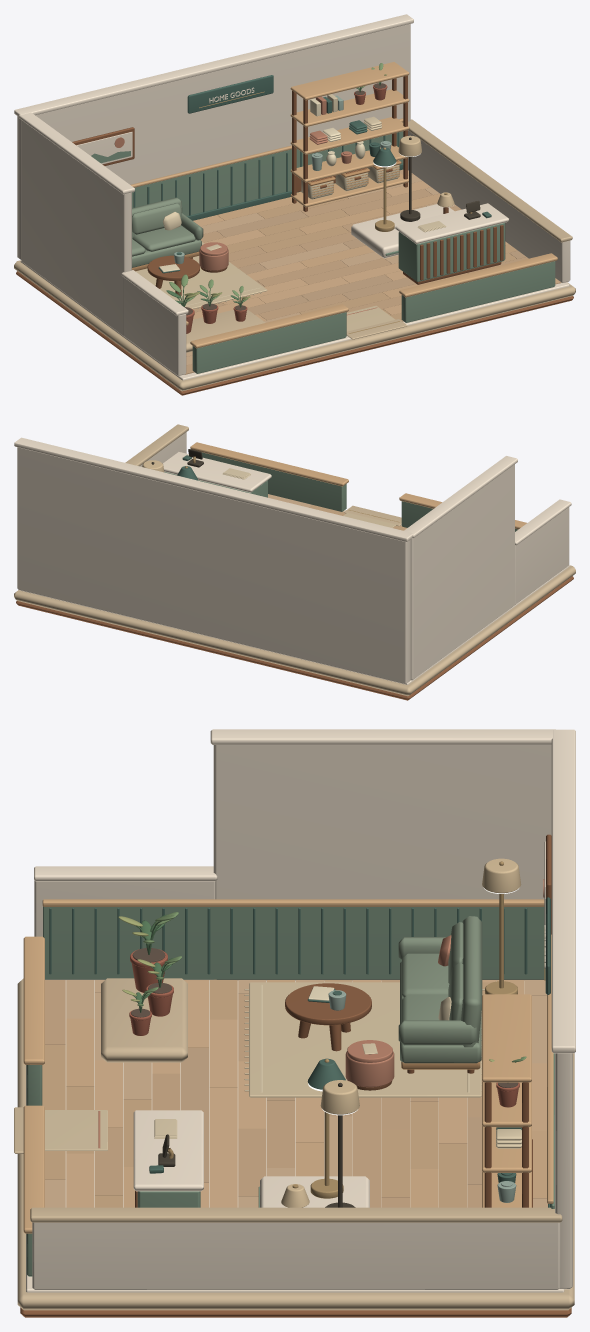
The model's file is shop.glb.
The picture shows the model from 3 angles, top to bottom: view 1: azimuth 30°, elevation 25°; view 2: azimuth 150°, elevation 25°; view 3: azimuth 270°, elevation 25°; orthographic projection. The views are drawn at different scales.
Visible parts, largest first — view 1: Furniture store shell · Shop · warm plaster, Furniture store shell · Shop · cream limestone, Furniture store shell · Shop · ivory joinery, Furniture store shell · Shop · eucalyptus panel, Editable furniture displays · Shop · light oak, Store fixtures and signs · Shop · eucalyptus panel, Furniture store shell · Shop · floorboard 0, Editable furniture displays · Shop · warm walnut, Furniture store shell · Shop · floorboard 4, Editable furniture displays · Shop · ivory joinery, Store fixtures and signs · Shop · forest blue green, Furniture store shell · Shop · floorboard 2 (+20 smaller); view 2: Furniture store shell · Shop · warm plaster, Furniture store shell · Shop · cream limestone, Furniture store shell · Shop · ivory joinery, Furniture store shell · Shop · eucalyptus panel, Furniture store shell · Shop · warm walnut, Furniture store shell · Shop · light oak, Editable furniture displays · Shop · ivory joinery; view 3: Furniture store shell · Shop · warm plaster, Store fixtures and signs · Shop · eucalyptus panel, Furniture store shell · Shop · cream limestone, Furniture store shell · Shop · ivory joinery, Furniture store shell · Shop · floorboard 4, Furniture store shell · Shop · floorboard 0, Editable furniture displays · Shop · flatweave sandy rug, Furniture store shell · Shop · floorboard 2, Editable furniture displays · Shop · olive upholstery, Editable furniture displays · Shop · light oak, Editable furniture displays · Shop · ivory joinery, Furniture store shell · Shop · floorboard 5 (+18 smaller).
Part boxes in pixels (x1,y1,x2,y2): Furniture store shell · Shop · warm plaster: [17, 24, 570, 375]; Furniture store shell · Shop · cream limestone: [14, 119, 575, 391]; Furniture store shell · Shop · ivory joinery: [14, 14, 569, 380]; Furniture store shell · Shop · eucalyptus panel: [192, 261, 555, 373]; Editable furniture displays · Shop · light oak: [290, 62, 409, 207]; Store fixtures and signs · Shop · eucalyptus panel: [91, 131, 403, 215]; Furniture store shell · Shop · floorboard 0: [185, 169, 528, 374]; Editable furniture displays · Shop · warm walnut: [147, 75, 503, 295]; Furniture store shell · Shop · floorboard 4: [193, 181, 561, 320]; Editable furniture displays · Shop · ivory joinery: [351, 203, 509, 258]; Store fixtures and signs · Shop · forest blue green: [133, 75, 403, 220]; Furniture store shell · Shop · floorboard 2: [226, 197, 517, 321]; Furniture store shell · Shop · warm plaster: [17, 432, 569, 684]; Furniture store shell · Shop · cream limestone: [14, 424, 575, 696]; Furniture store shell · Shop · ivory joinery: [14, 437, 571, 684]; Furniture store shell · Shop · eucalyptus panel: [201, 452, 517, 531]; Furniture store shell · Shop · warm walnut: [16, 576, 573, 700]; Furniture store shell · Shop · light oak: [190, 442, 526, 529]; Editable furniture displays · Shop · ivory joinery: [163, 452, 271, 492]; Furniture store shell · Shop · warm plaster: [32, 745, 572, 1289]; Store fixtures and signs · Shop · eucalyptus panel: [43, 906, 554, 1208]; Furniture store shell · Shop · cream limestone: [14, 978, 574, 1310]; Furniture store shell · Shop · ivory joinery: [26, 729, 575, 1292]; Furniture store shell · Shop · floorboard 4: [66, 980, 546, 1207]; Furniture store shell · Shop · floorboard 0: [45, 980, 481, 1207]; Editable furniture displays · Shop · flatweave sandy rug: [249, 982, 481, 1097]; Furniture store shell · Shop · floorboard 2: [42, 979, 491, 1207]; Editable furniture displays · Shop · olive upholstery: [398, 916, 482, 1063]; Editable furniture displays · Shop · light oak: [482, 994, 531, 1207]; Editable furniture displays · Shop · ivory joinery: [133, 1110, 369, 1207]; Furniture store shell · Shop · floorboard 5: [45, 980, 547, 1207].
Size of the model in its own units: 8.18 by 3.24 by 6.06.
